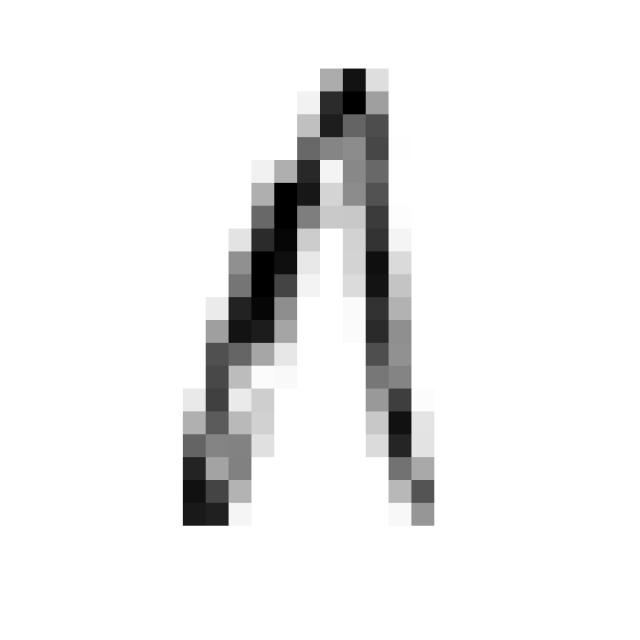8 -eight-: (158, 48, 450, 564)
